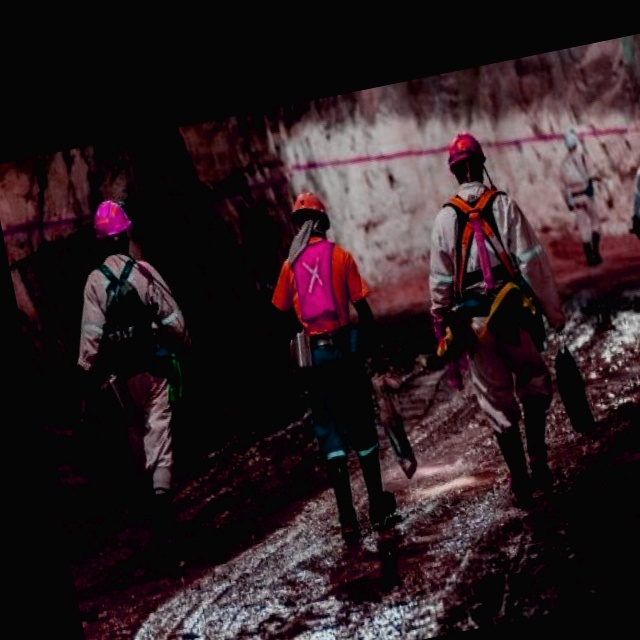Con_Casco: (85, 195, 145, 260), (442, 126, 491, 186), (288, 187, 339, 242)
